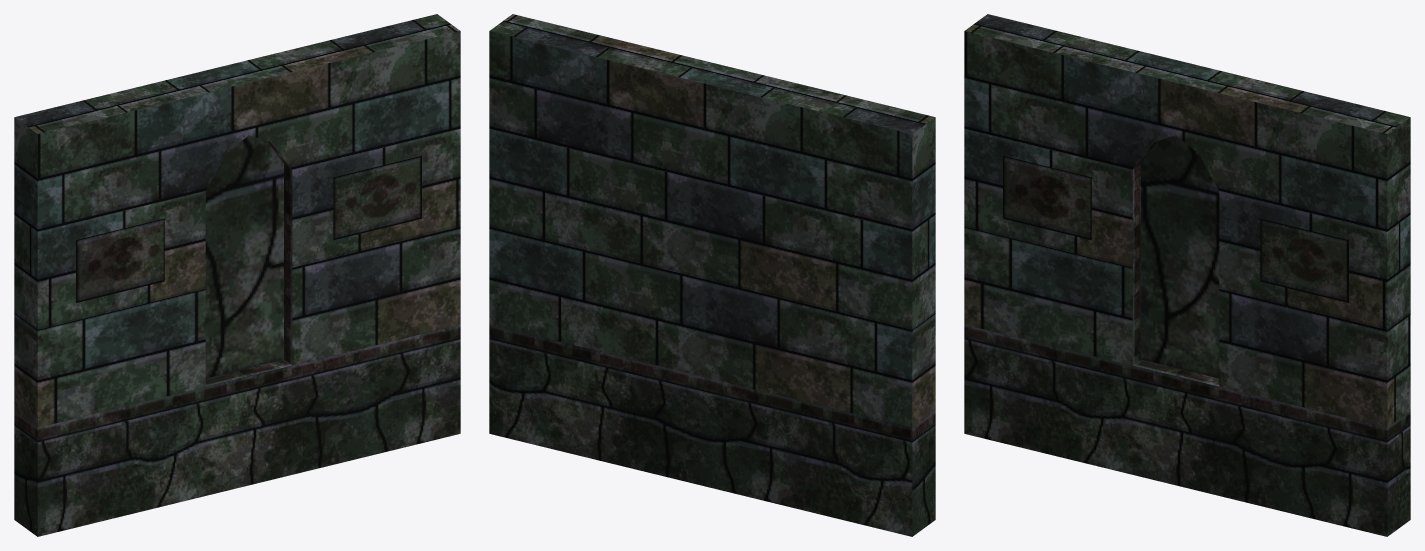
The model's file is SM_CastleWallV1.fbx.
3 renders of one model, left to right at view 1: azimuth 30°, elevation 25°; view 2: azimuth 150°, elevation 25°; view 3: azimuth 330°, elevation 25°, orthographic.
Parts seen in each view (by area): view 1: SM_CastleWallV1; view 2: SM_CastleWallV1; view 3: SM_CastleWallV1.
Boxes of the visible parts, bbox=[...] form: SM_CastleWallV1: bbox=[14, 14, 460, 536]; SM_CastleWallV1: bbox=[489, 14, 935, 536]; SM_CastleWallV1: bbox=[964, 14, 1410, 536].
Bounding box in the file's own units: 2100 × 1912 × 200.
